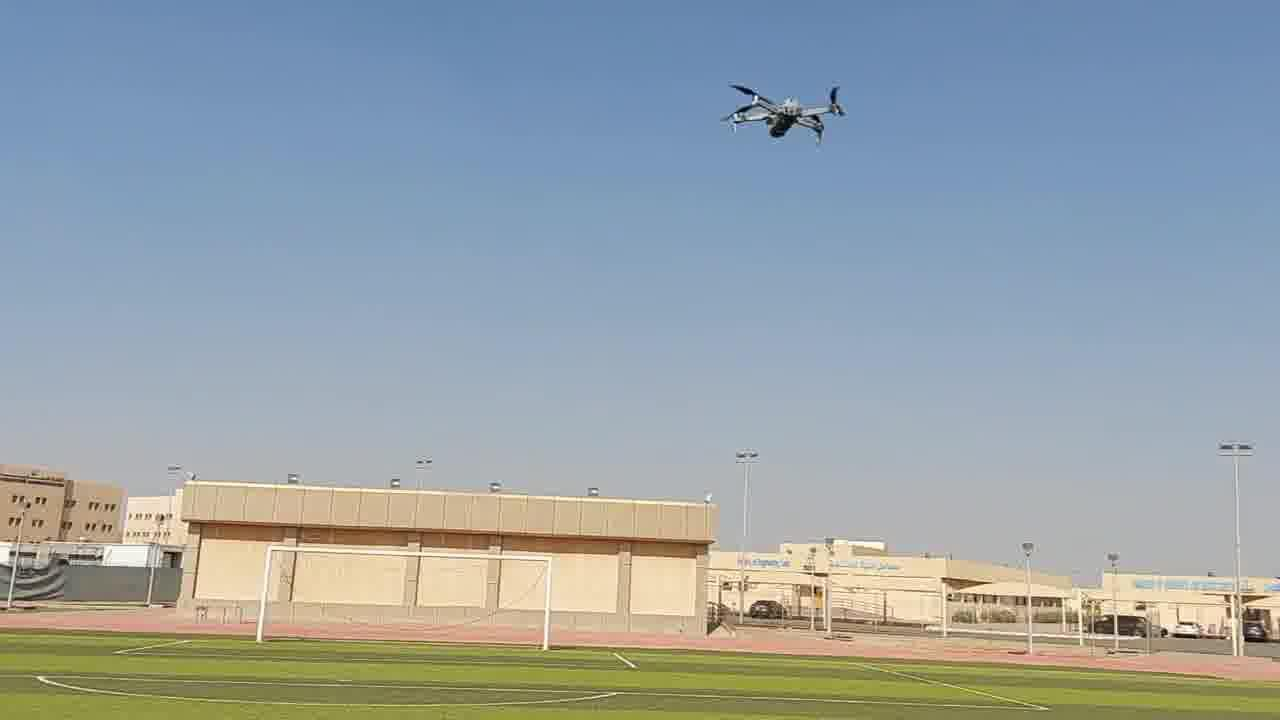drone: (713, 78, 850, 152)
